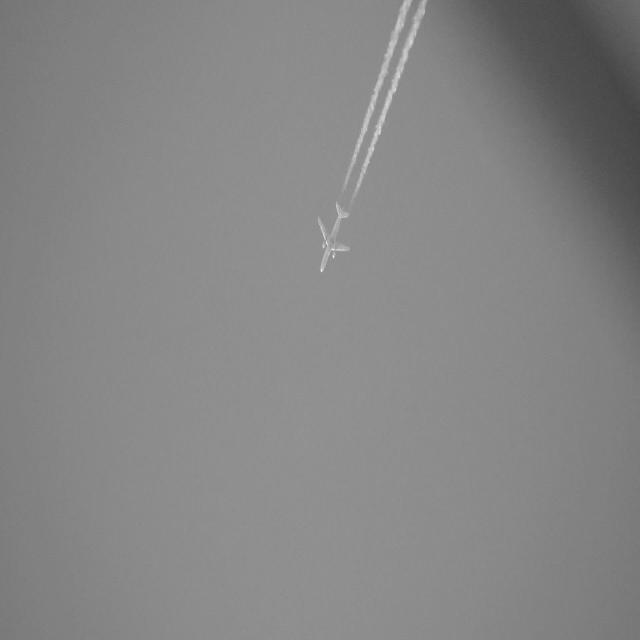aeroplane: (313, 202, 353, 282)
